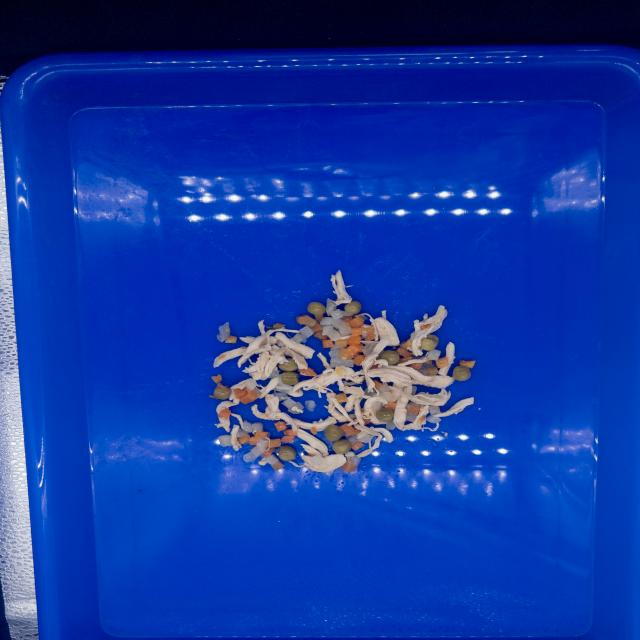Carrot: (239, 389, 259, 404), (340, 423, 361, 437), (347, 316, 365, 329), (341, 460, 358, 472), (233, 387, 248, 399), (260, 447, 276, 458), (346, 344, 363, 354), (300, 367, 318, 376), (396, 347, 412, 357), (353, 352, 365, 365), (218, 407, 231, 419), (313, 330, 327, 341), (459, 360, 476, 369), (339, 349, 354, 359), (436, 357, 449, 368), (296, 315, 309, 325), (274, 422, 287, 432), (271, 461, 284, 471), (334, 338, 350, 346), (267, 438, 281, 447), (349, 336, 361, 346), (211, 374, 223, 384), (311, 323, 324, 332), (342, 315, 356, 323), (385, 401, 396, 411), (351, 326, 361, 337), (352, 441, 364, 450), (238, 435, 250, 444), (408, 363, 423, 370), (322, 339, 333, 348), (336, 393, 347, 402), (428, 367, 439, 376), (407, 407, 421, 414), (225, 335, 237, 343), (284, 429, 297, 436), (373, 380, 383, 389), (402, 340, 413, 348), (420, 323, 432, 330), (399, 357, 412, 363), (361, 326, 374, 332), (281, 436, 294, 442), (255, 432, 268, 438), (417, 415, 425, 424), (367, 332, 375, 341), (249, 436, 257, 445), (273, 323, 285, 328), (315, 314, 323, 321), (363, 418, 371, 425), (311, 427, 317, 435)
Chicken_Shred: (368, 352, 455, 431), (214, 320, 300, 368), (355, 310, 400, 389), (251, 394, 337, 433), (292, 353, 364, 398), (289, 428, 346, 473), (407, 305, 447, 357), (343, 386, 388, 426), (242, 349, 289, 381), (354, 424, 394, 457), (216, 379, 249, 415), (323, 393, 358, 426), (275, 332, 315, 359), (271, 346, 308, 370), (330, 270, 354, 306), (432, 397, 474, 417), (275, 375, 303, 397), (438, 342, 455, 375), (256, 377, 279, 398), (231, 425, 242, 451), (214, 417, 231, 432), (231, 413, 243, 430), (421, 422, 439, 432), (259, 456, 268, 466), (291, 406, 303, 413), (361, 341, 379, 345), (343, 381, 357, 386), (345, 451, 355, 457), (362, 331, 368, 341), (316, 308, 316, 308)
Peas: (420, 334, 439, 351), (209, 386, 231, 400), (325, 425, 344, 441), (333, 439, 352, 454), (380, 350, 400, 364), (278, 446, 296, 461), (453, 366, 471, 381), (307, 302, 326, 316), (375, 408, 394, 422), (280, 372, 299, 385), (278, 359, 298, 371), (344, 301, 362, 314)
Potato_White: (320, 317, 351, 336), (217, 322, 231, 343), (245, 378, 261, 394), (361, 342, 377, 356), (331, 309, 353, 319), (331, 358, 353, 367), (288, 402, 304, 414), (299, 326, 314, 338), (426, 349, 441, 361), (378, 391, 396, 401), (326, 299, 337, 315), (291, 333, 307, 343), (281, 398, 297, 408), (219, 434, 231, 447), (377, 383, 391, 394), (265, 454, 279, 465), (257, 438, 268, 452), (243, 451, 257, 462), (272, 392, 290, 400), (327, 330, 340, 341), (406, 402, 421, 411), (305, 400, 317, 411), (303, 317, 316, 327), (358, 434, 372, 443), (426, 415, 441, 423), (251, 446, 263, 456), (243, 420, 253, 432), (330, 344, 346, 351), (406, 412, 417, 422), (350, 455, 361, 465), (252, 422, 263, 432), (429, 406, 441, 415), (322, 326, 333, 335), (347, 435, 358, 444), (236, 430, 249, 437), (418, 368, 429, 376), (329, 351, 341, 358), (364, 388, 374, 396), (268, 371, 279, 378), (386, 422, 395, 430), (411, 385, 417, 395), (278, 342, 285, 347)
